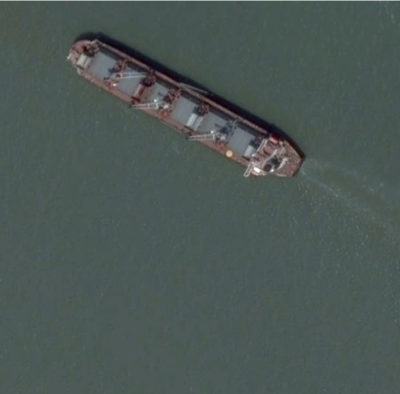boat: (67, 38, 304, 179)
